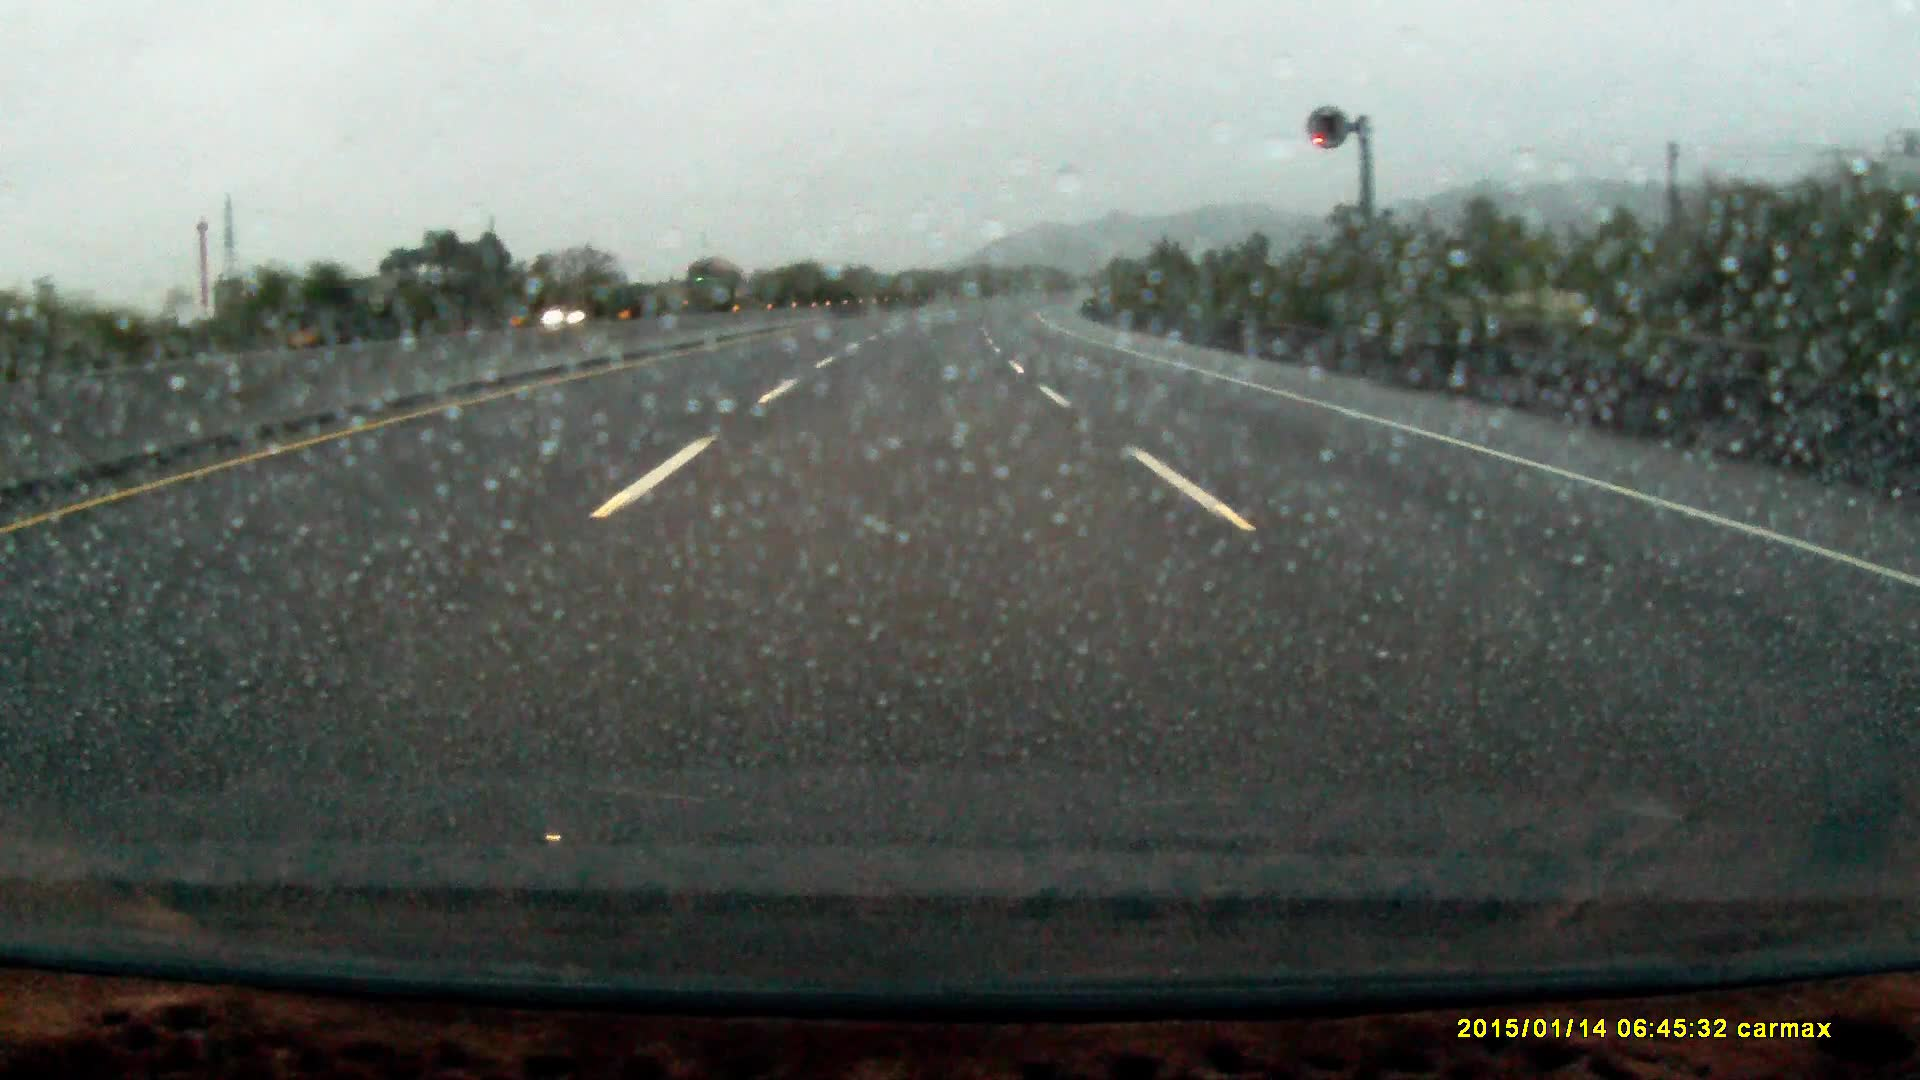vehicle: (676, 260, 738, 313), (543, 297, 609, 324)
